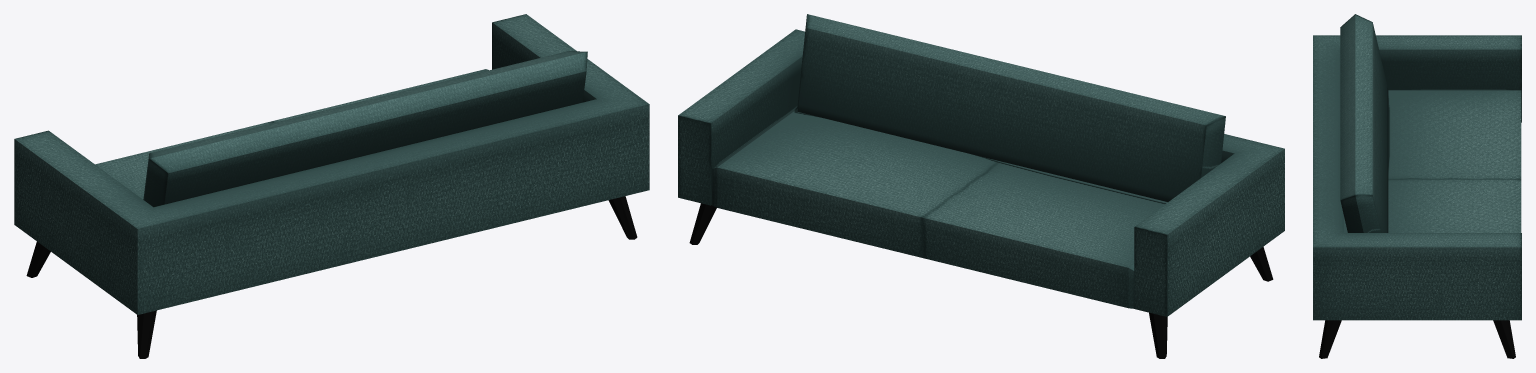
The model's file is FUR0210037.fbx.
3 renders of one model, left to right at view 1: azimuth 30°, elevation 25°; view 2: azimuth 150°, elevation 25°; view 3: azimuth 270°, elevation 25°, orthographic. The views are drawn at different scales.
Parts seen in each view (by area): view 1: smFUR0210037; view 2: smFUR0210037; view 3: smFUR0210037.
Boxes of the visible parts, bbox=[...] form: smFUR0210037: bbox=[14, 14, 649, 358]; smFUR0210037: bbox=[678, 14, 1284, 358]; smFUR0210037: bbox=[1313, 14, 1521, 358].
Bounding box in the file's own units: 286 × 95.21 × 119.
1 material, 1 textured.
